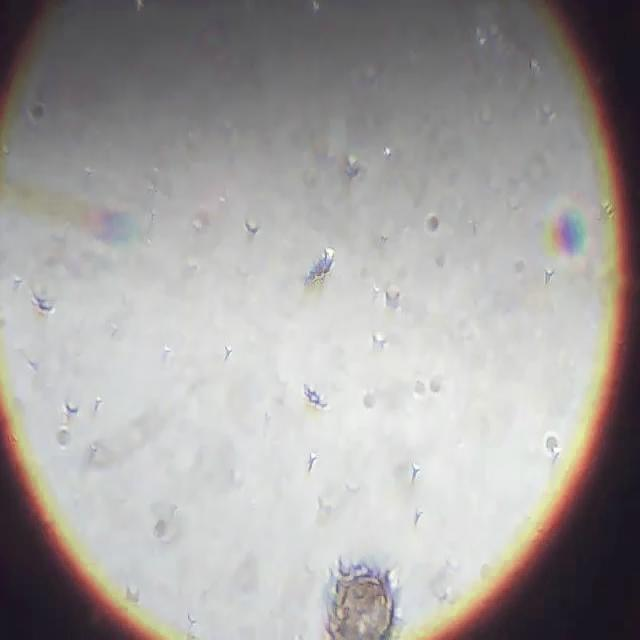alexandrium: (324, 562, 408, 640)
